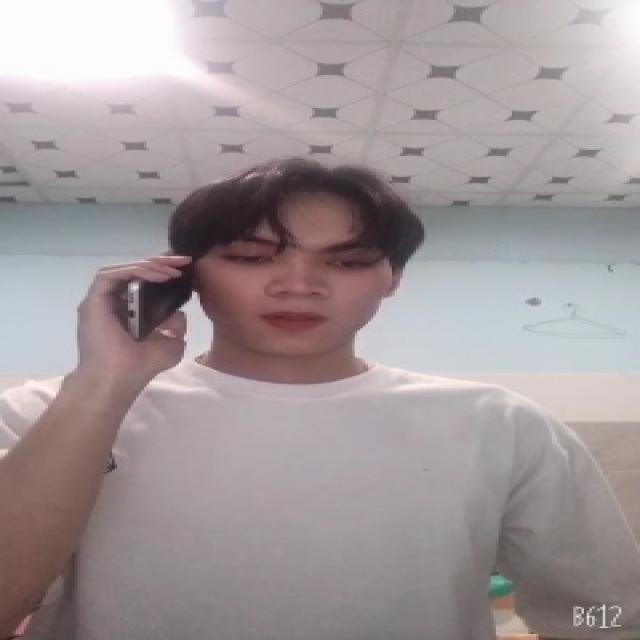Phone: (118, 248, 204, 347)
